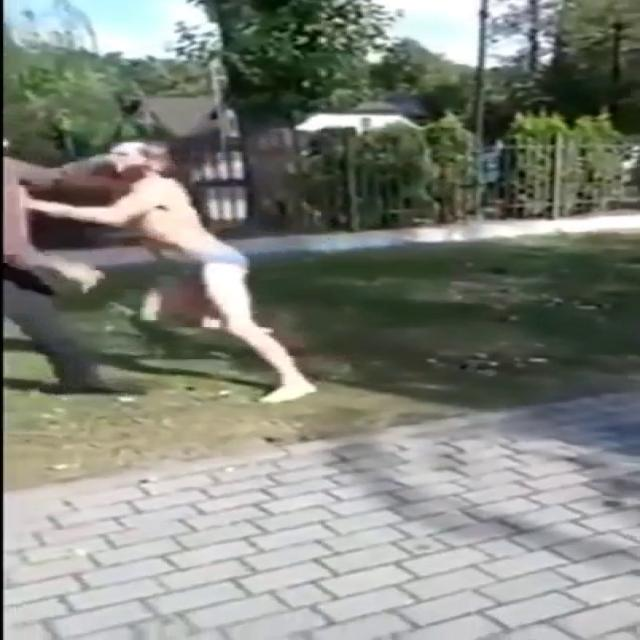Violence: (0, 133, 259, 352)
